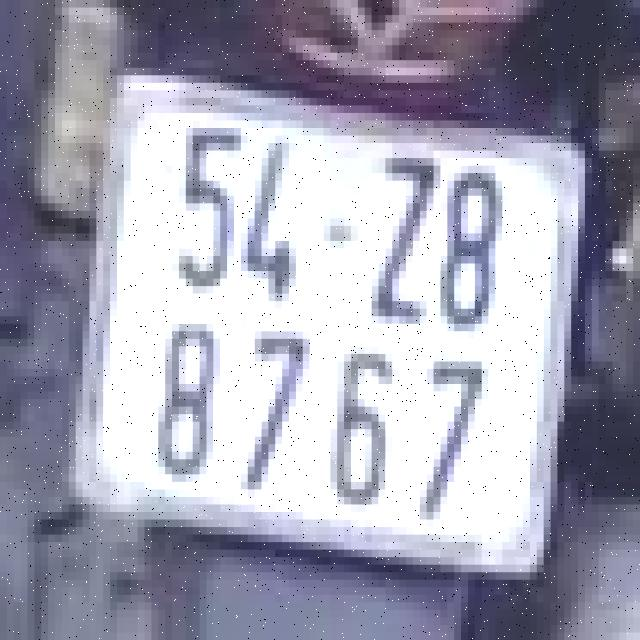4: (241, 128, 303, 301)
5: (172, 120, 248, 294)
6: (330, 342, 399, 516)
7: (416, 350, 492, 531), (241, 324, 316, 504)
8: (148, 313, 230, 493), (437, 154, 513, 335)
Z: (361, 143, 444, 331)
